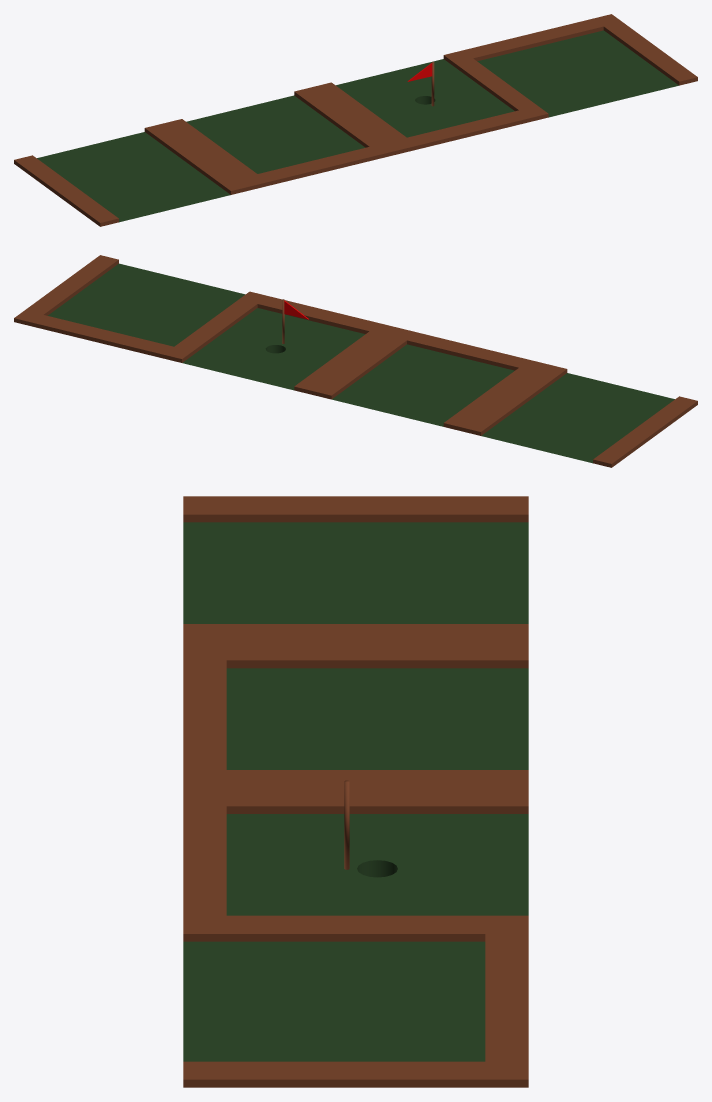
The model's file is Modular Golf Road.fbx.
3 views of the same model, one above another, from view 1: azimuth 30°, elevation 25°; view 2: azimuth 150°, elevation 25°; view 3: azimuth 270°, elevation 25° (orthographic). The views are drawn at different scales.
Visible parts, largest first — view 1: Corner, Straight, Start, GolfHole, Flag; view 2: Start, Straight, GolfHole, Corner; view 3: GolfHole, Corner, Straight, Start.
Boxes of the visible parts, x1,y1,x2,y2 form: Corner: (462, 14, 697, 117); Straight: (14, 123, 249, 226); Start: (164, 87, 398, 190); GolfHole: (313, 50, 548, 153); Flag: (407, 61, 434, 106); Start: (313, 328, 547, 431); Straight: (462, 364, 697, 467); GolfHole: (163, 291, 398, 394); Corner: (14, 255, 245, 358); GolfHole: (183, 788, 528, 941); Corner: (183, 934, 528, 1087); Straight: (183, 496, 528, 642); Start: (183, 642, 528, 787).
Bounding box in the file's own units: 1600 × 188 × 400.
